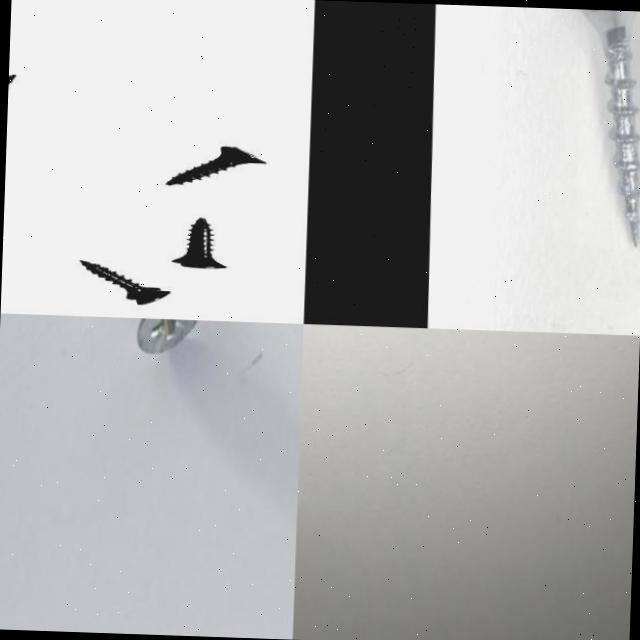Screw: (581, 9, 640, 247), (82, 260, 172, 305), (168, 146, 268, 185), (173, 218, 228, 268), (137, 318, 197, 354)
